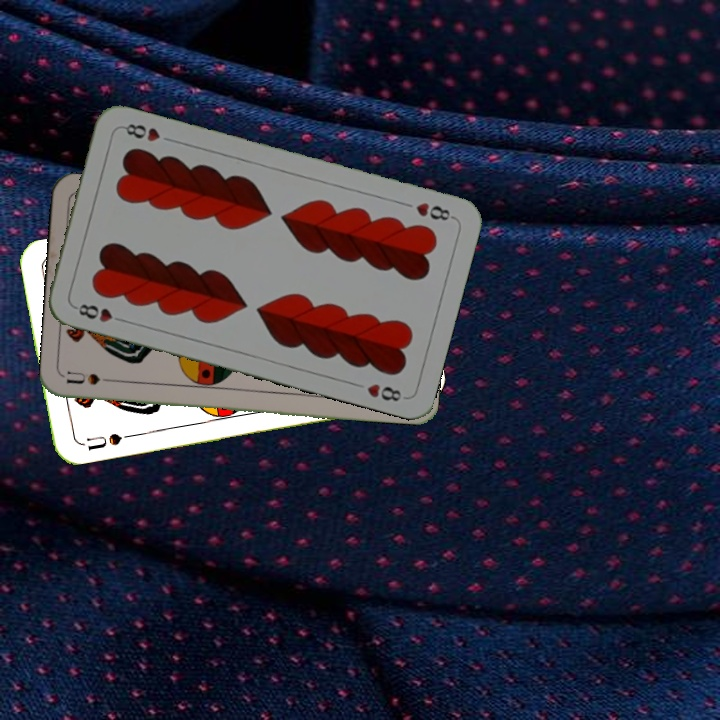H8: (70, 299, 128, 325), (411, 198, 457, 224)
SU: (64, 366, 123, 388), (83, 429, 134, 453)
